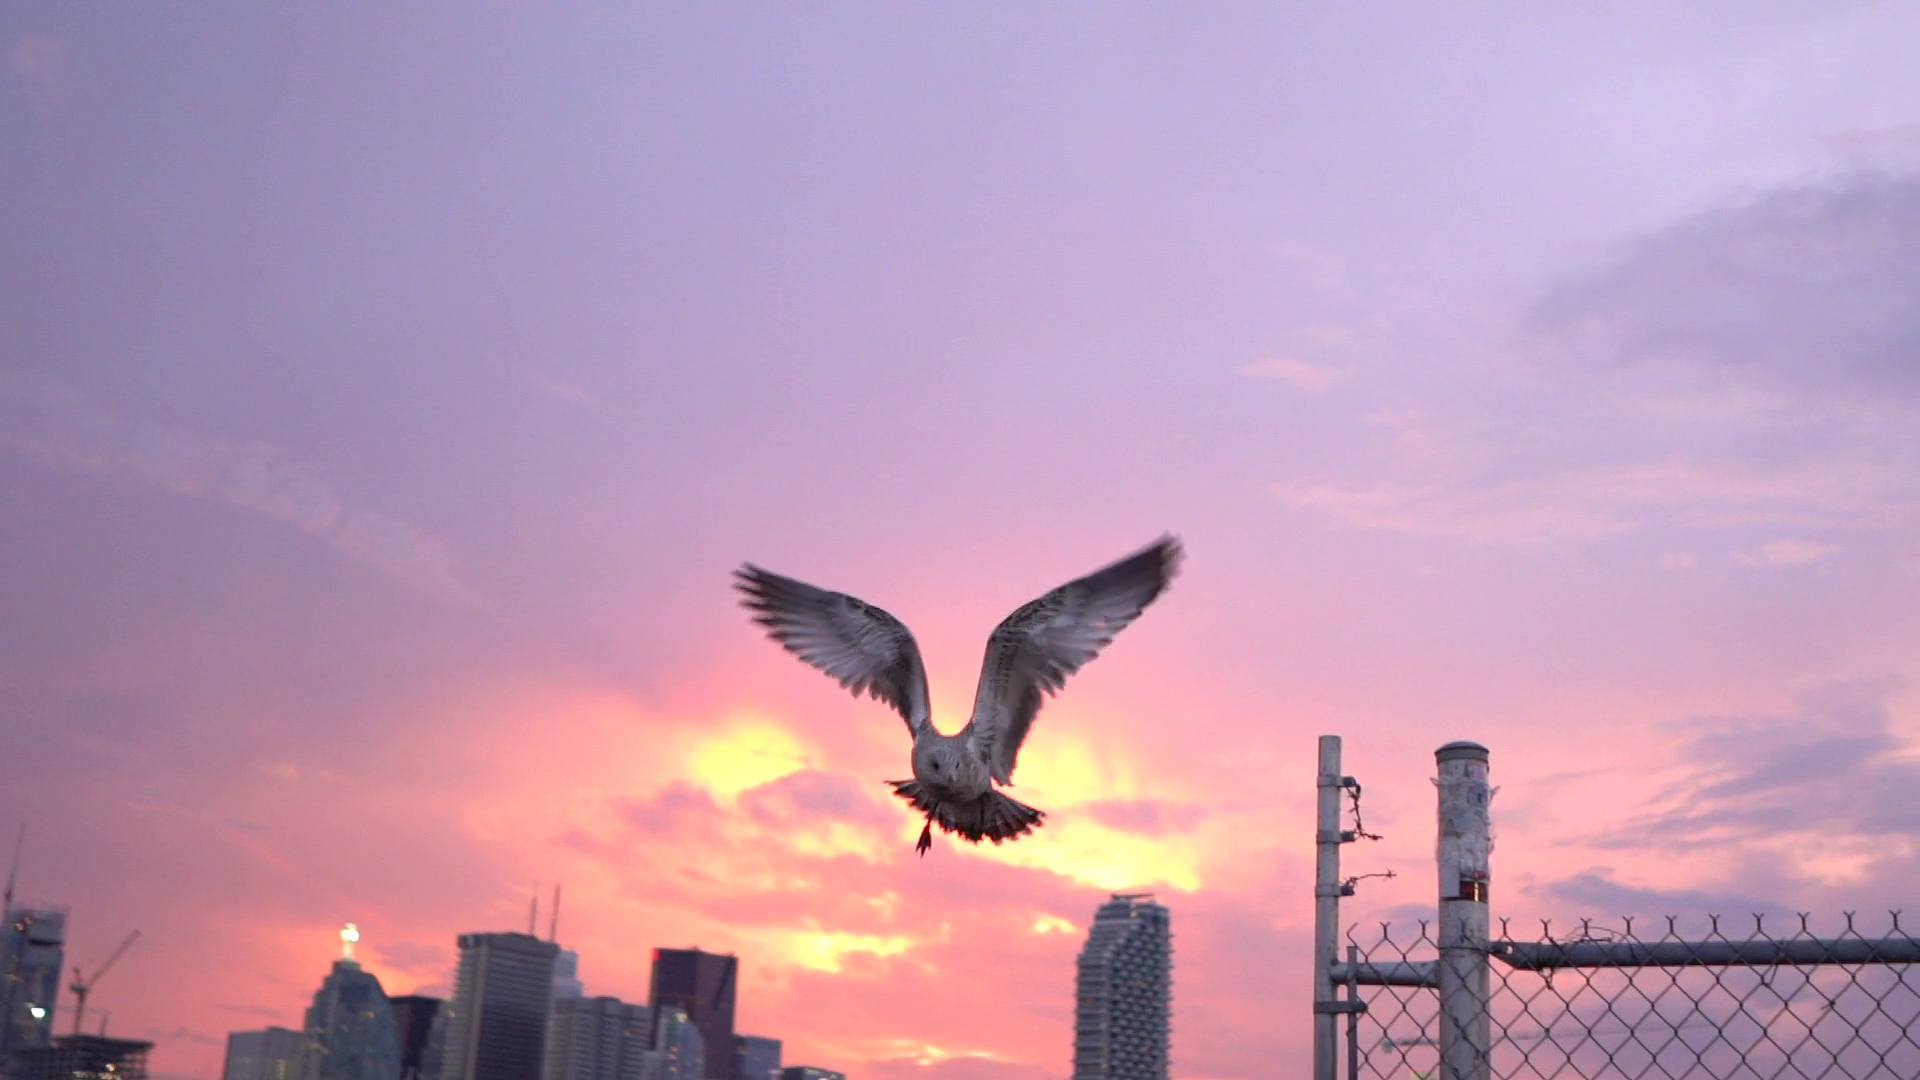bird: (733, 550, 1178, 853)
